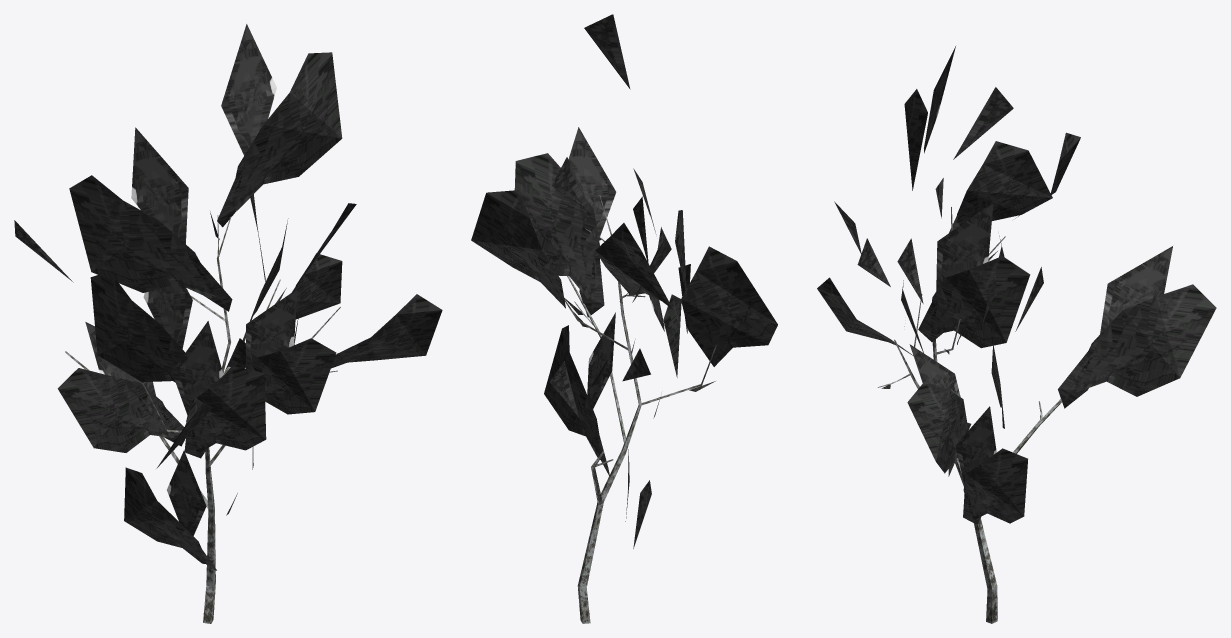
File: birch-sapling-1-lod-1.glb
The picture shows the model from 3 angles, left to right: view 1: azimuth 30°, elevation 25°; view 2: azimuth 150°, elevation 25°; view 3: azimuth 270°, elevation 25°; orthographic projection. The views are drawn at different scales.
Visible parts, largest first — view 1: world; view 2: world; view 3: world.
Part boxes in pixels (x1,y1,x2,y2): world: (14, 24, 442, 623); world: (471, 14, 777, 623); world: (817, 46, 1216, 623).
Size of the model in its own units: 1.4 by 2.64 by 1.62.
2 materials, 2 textured.
